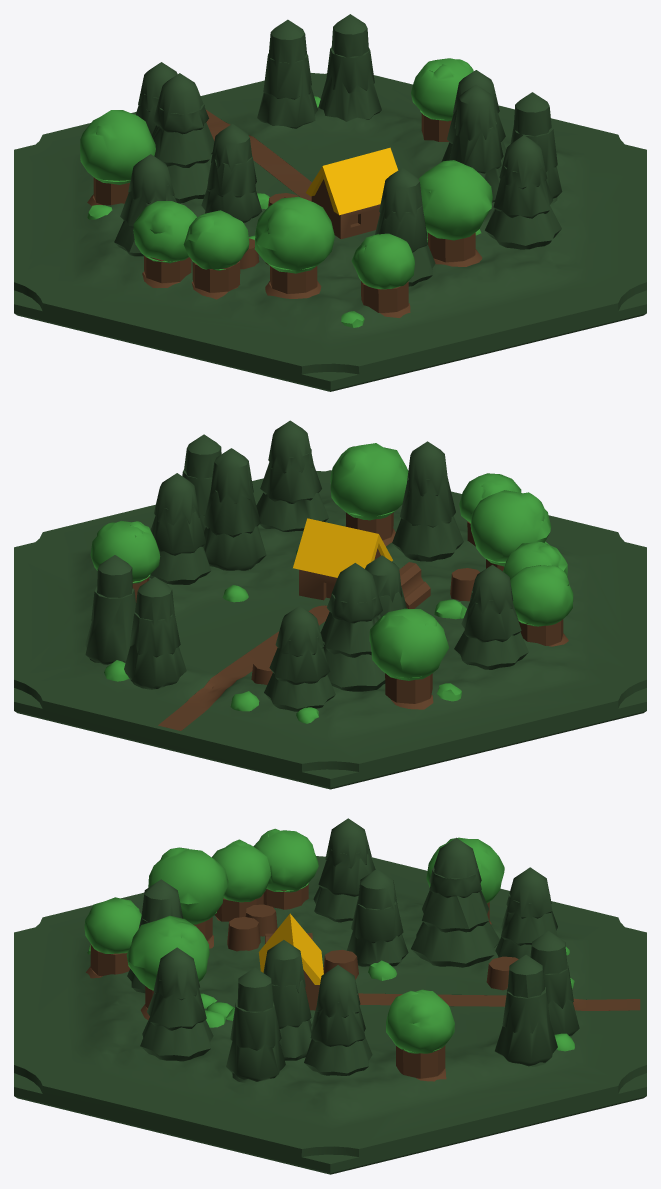
The model's file is wald_4.glb.
3 views of the same model, one above another, from view 1: azimuth 30°, elevation 25°; view 2: azimuth 150°, elevation 25°; view 3: azimuth 270°, elevation 25° (orthographic).
Visible parts, largest first — view 1: wald_4; view 2: wald_4; view 3: wald_4.
Boxes of the visible parts, x1,y1,x2,y2 form: wald_4: (14,14,646,391); wald_4: (14,420,646,789); wald_4: (14,818,646,1174).
Bounding box in the file's own units: 65.24 × 13.97 × 56.5.
